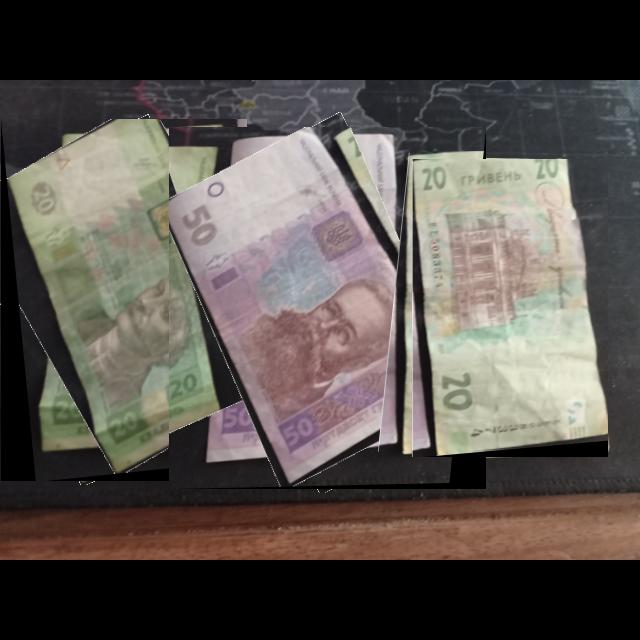20uah: (6, 119, 248, 476), (412, 159, 609, 456)
50uah: (169, 127, 466, 488)
